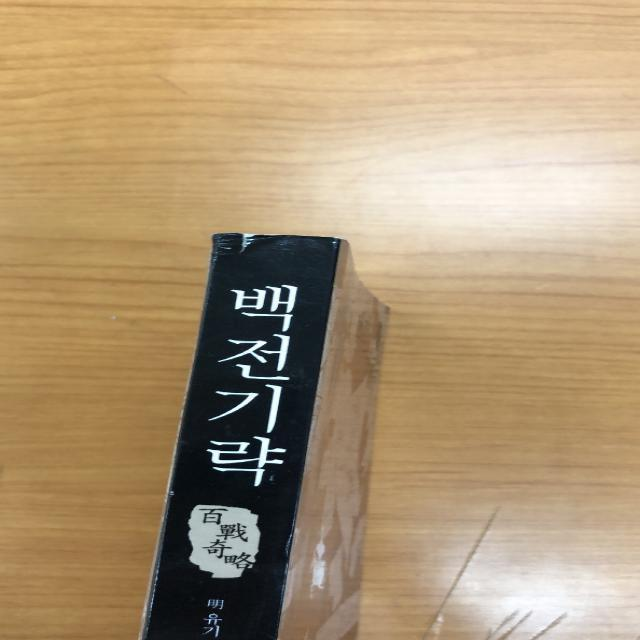Ripped: (202, 225, 272, 274)
Wornout: (318, 231, 352, 257), (156, 484, 182, 504)
